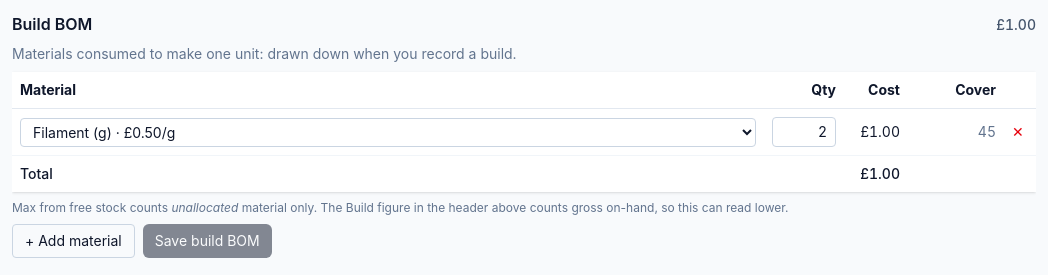
Test case: BomEditor › disables Save until something changes, then re-disables after saving
The image size is (1048, 275).
Expected: the button "Save build BOM" is disabled, [143,224,272,258]
Replace the text in the field showing "2" with "4". click: (804, 132)
box: [772,117,836,147]
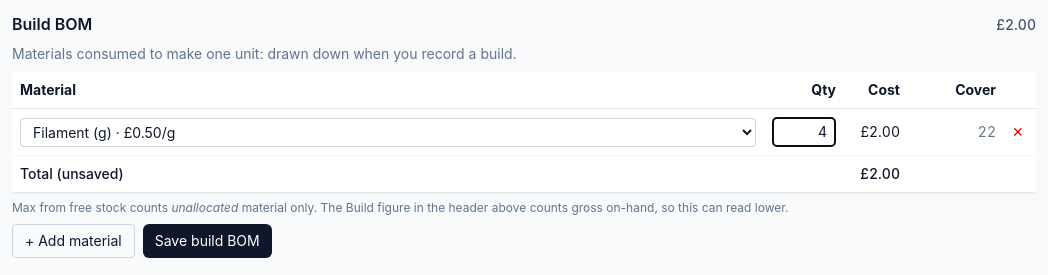
Now the button "Save build BOM" is enabled
Click the button "Save build BOM". click: (207, 241)
box: [143,224,272,258]
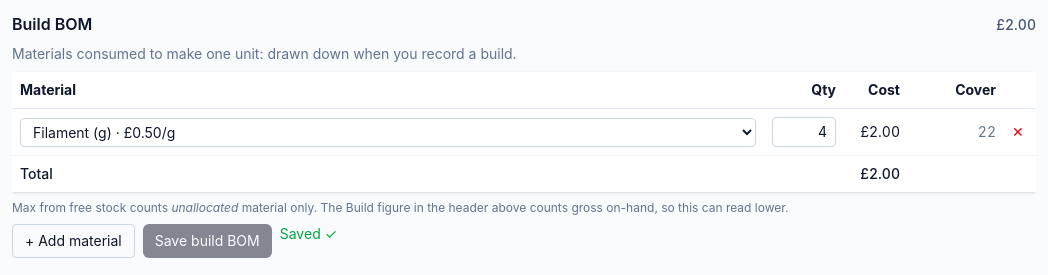
Now the button "Save build BOM" is disabled, box [143,224,272,258]
